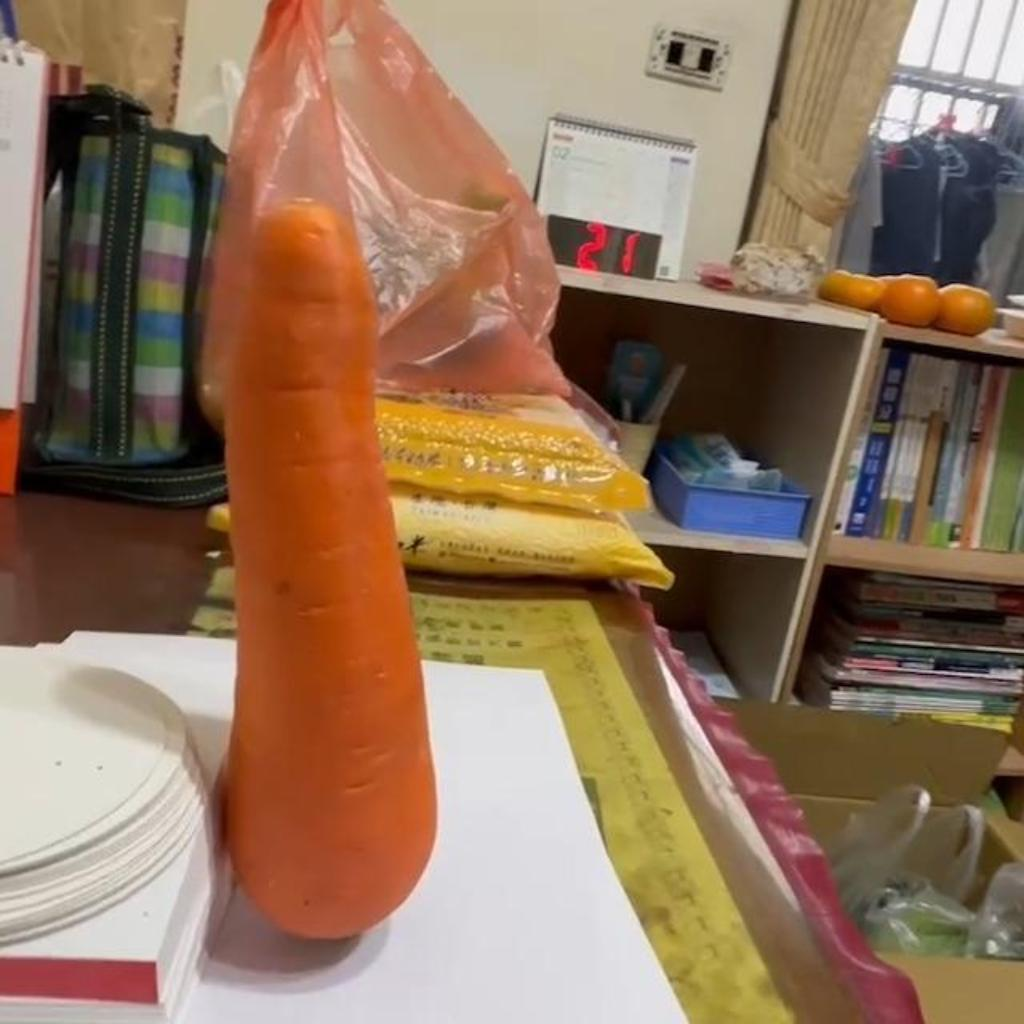carrot: (226, 202, 436, 937)
